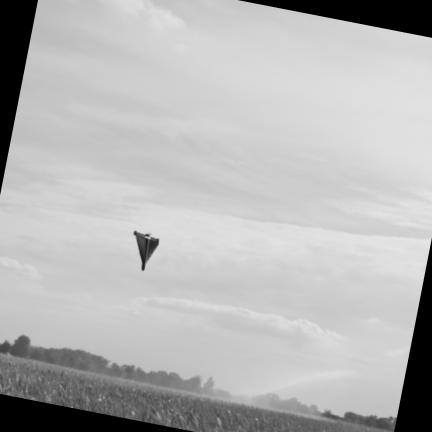Shahed: (133, 231, 159, 270)
